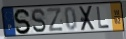0: (64, 6, 78, 32)
L: (96, 7, 111, 30)
S: (13, 8, 32, 36), (30, 8, 47, 34)
X: (78, 5, 97, 33)
Z: (46, 7, 64, 34)
